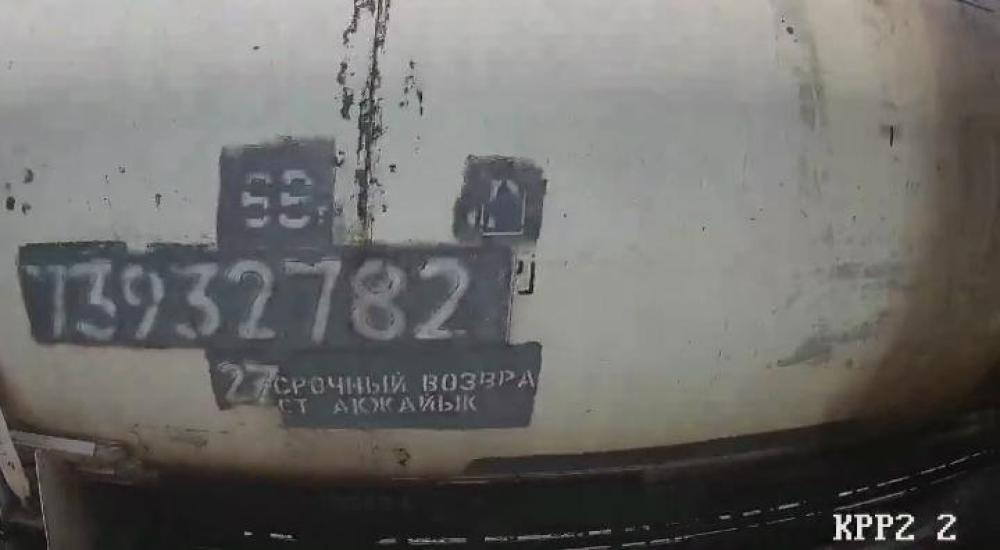Wagon-number: (19, 247, 480, 347)
